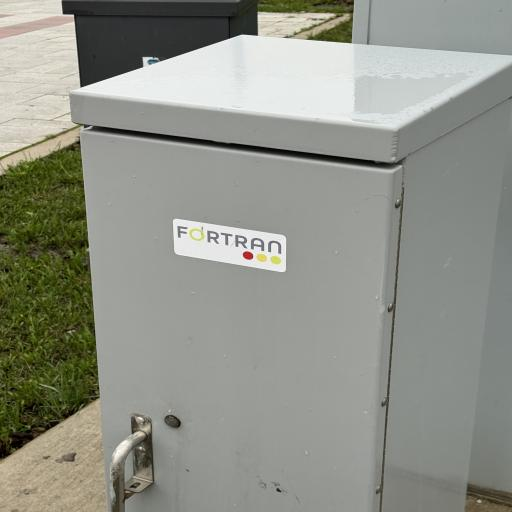Electrical Box: (60, 0, 506, 512)
